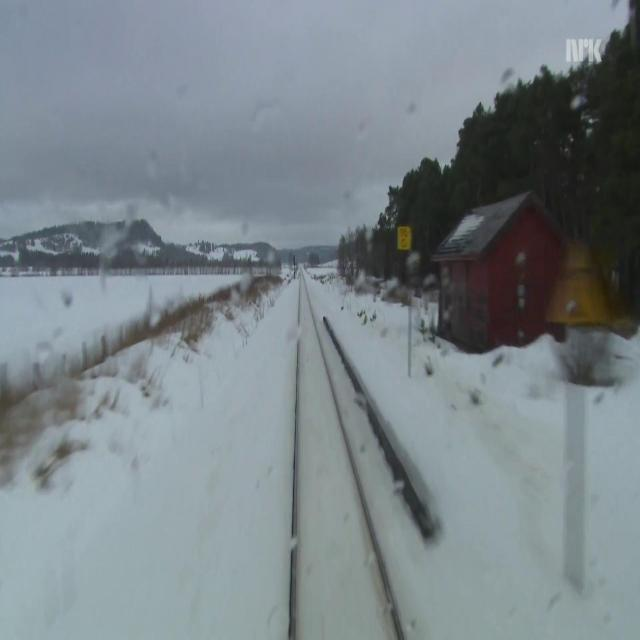rail-track: (296, 268, 400, 639)
